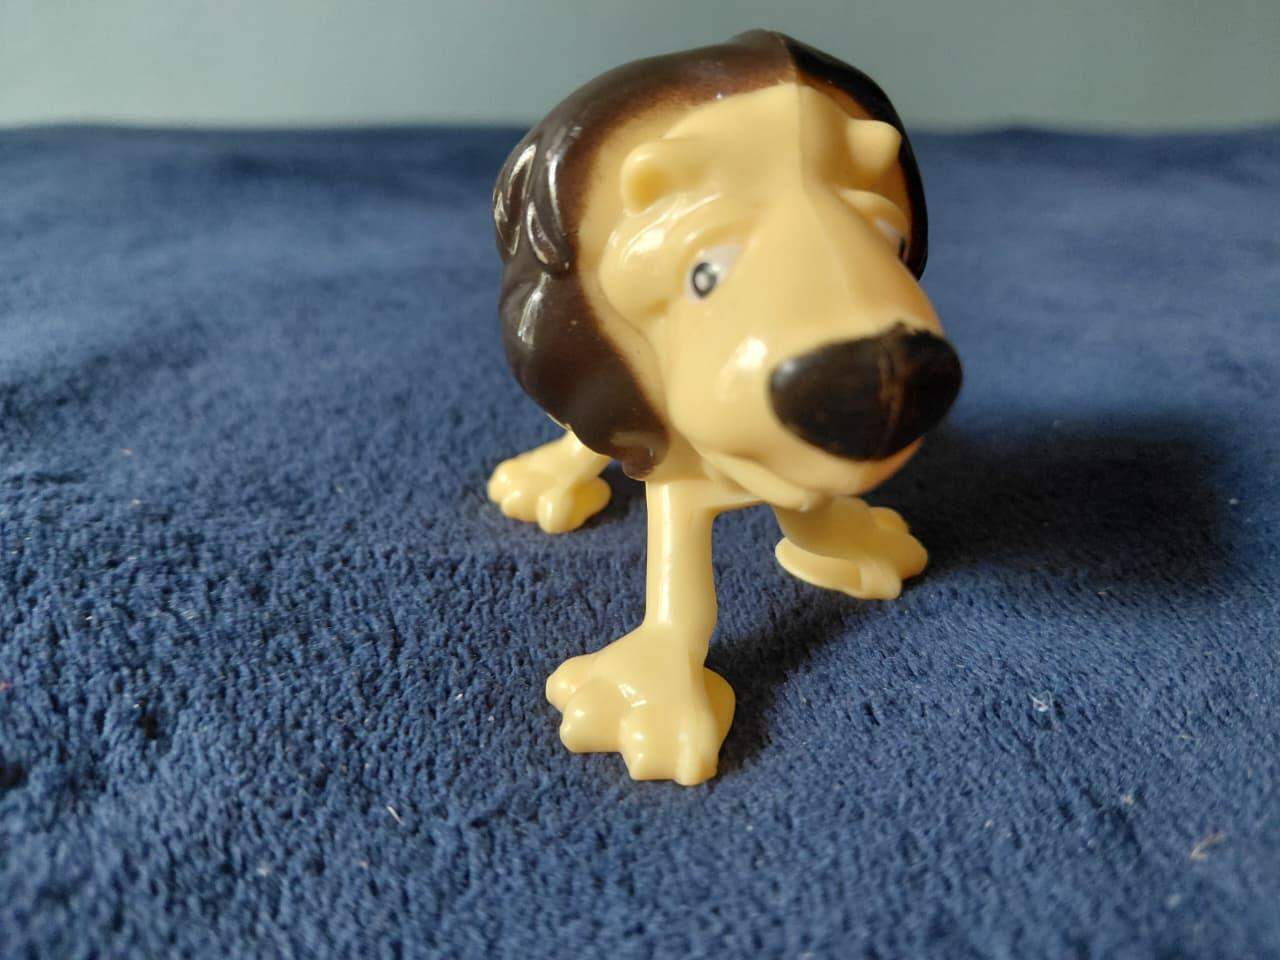lion: (472, 23, 975, 791)
